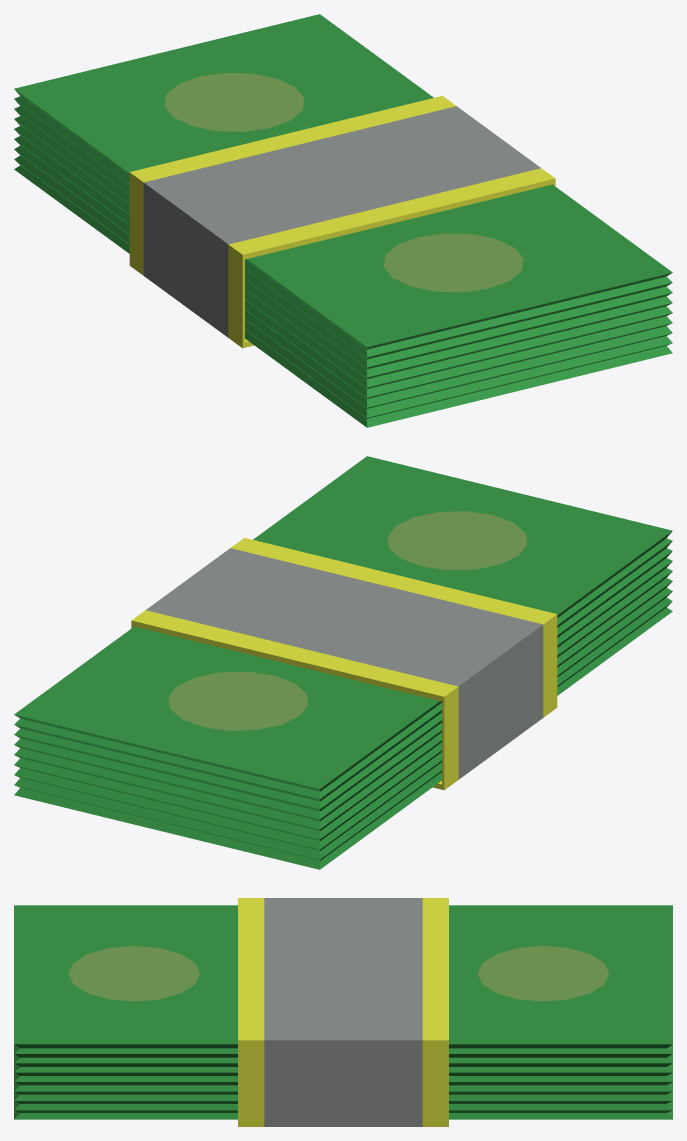
File: Cash.fbx
3 views of the same model, one above another, from view 1: azimuth 30°, elevation 25°; view 2: azimuth 150°, elevation 25°; view 3: azimuth 270°, elevation 25° (orthographic). The views are drawn at different scales.
Visible parts, largest first — view 1: Cash; view 2: Cash; view 3: Cash.
Boxes of the visible parts, x1,y1,x2,y2 form: Cash: [14, 14, 672, 427]; Cash: [14, 456, 672, 869]; Cash: [14, 898, 672, 1126].
Size of the model in its own units: 102 by 29.21 by 200.
